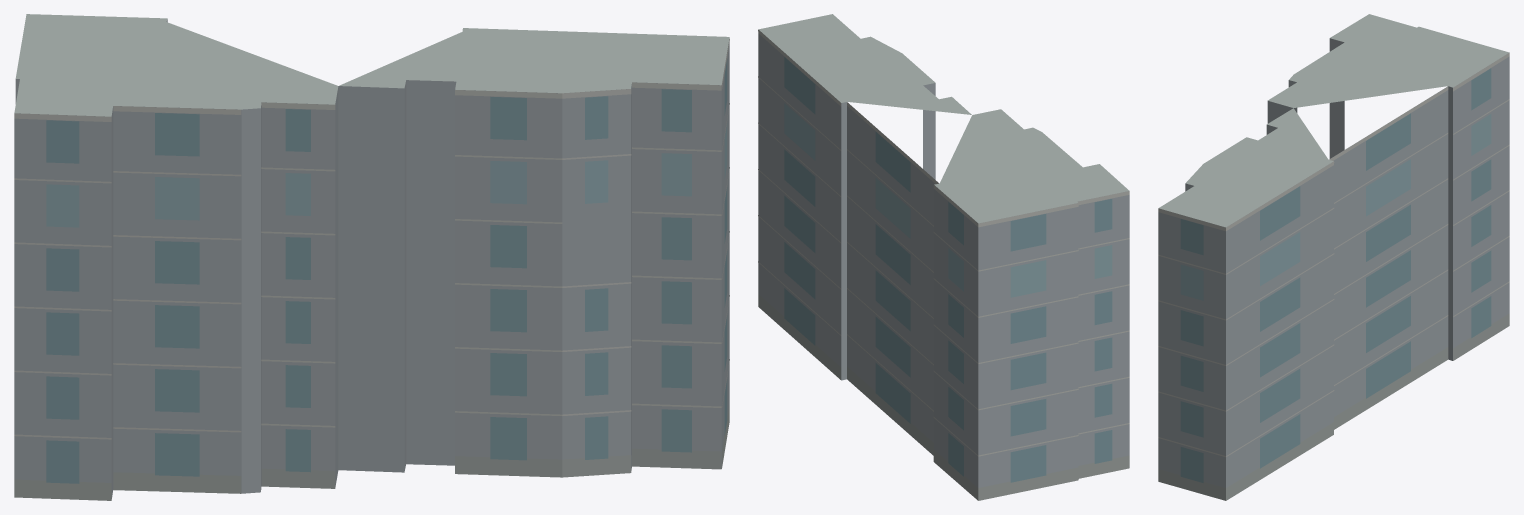
File: survey-upis-32513310.glb
3 views of the same model, side by side, from view 1: azimuth 30°, elevation 25°; view 2: azimuth 150°, elevation 25°; view 3: azimuth 270°, elevation 25° (orthographic). The views are drawn at different scales.
Visible parts, largest first — view 1: survey-upis-32513310.tmp; view 2: survey-upis-32513310.tmp; view 3: survey-upis-32513310.tmp.
Part boxes in pixels (x1,y1,x2,y2): survey-upis-32513310.tmp: (14, 14, 729, 500); survey-upis-32513310.tmp: (758, 14, 1129, 500); survey-upis-32513310.tmp: (1158, 14, 1509, 500).
Bounding box in the file's own units: 28.91 × 17.25 × 20.1.
